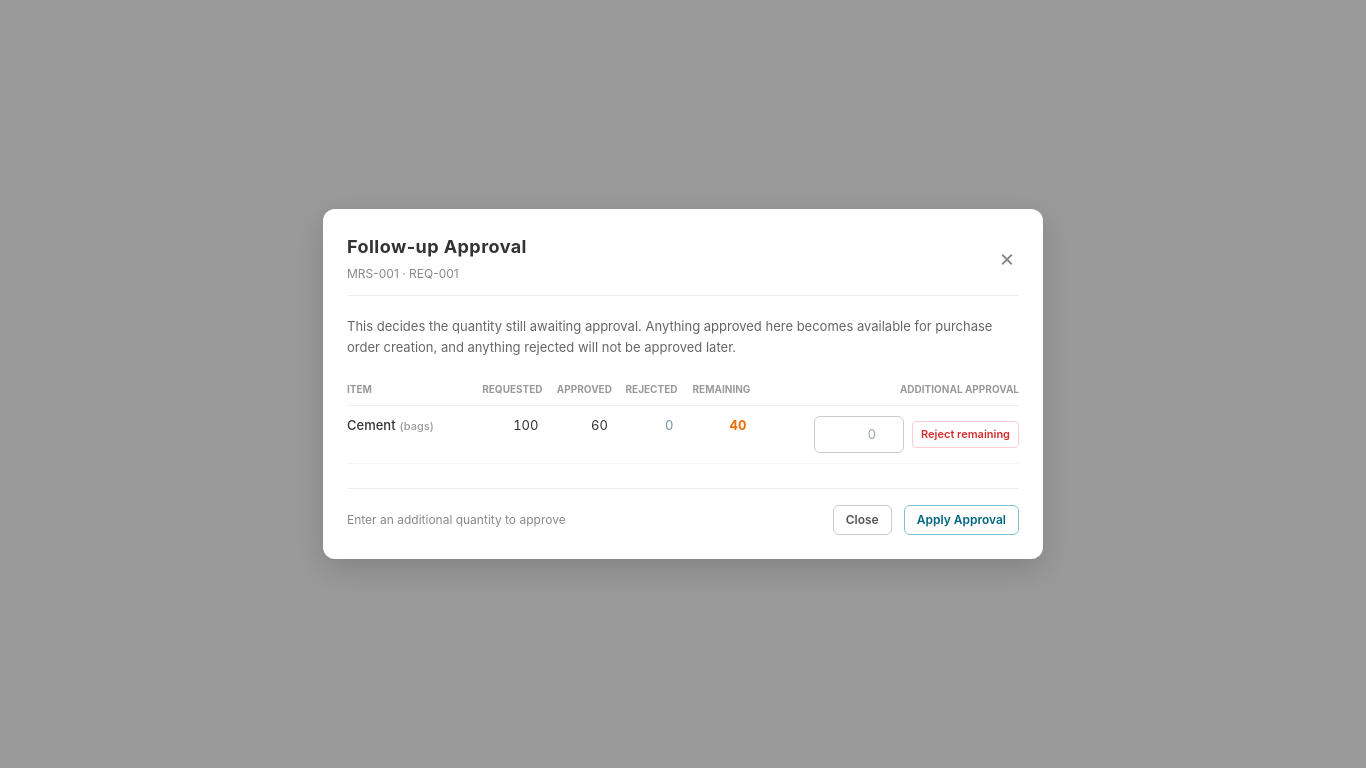
Test: additional approval is an increment › surfaces a server refusal instead of appearing to succeed
The image size is (1366, 768).
Expected: the text "Cement(bags)" is shown, x1=347 y1=405 x2=466 y2=464
Type "20" into the number field with placeholder "0".
click(859, 435); type("20")  # box x1=814 y1=416 x2=904 y2=453
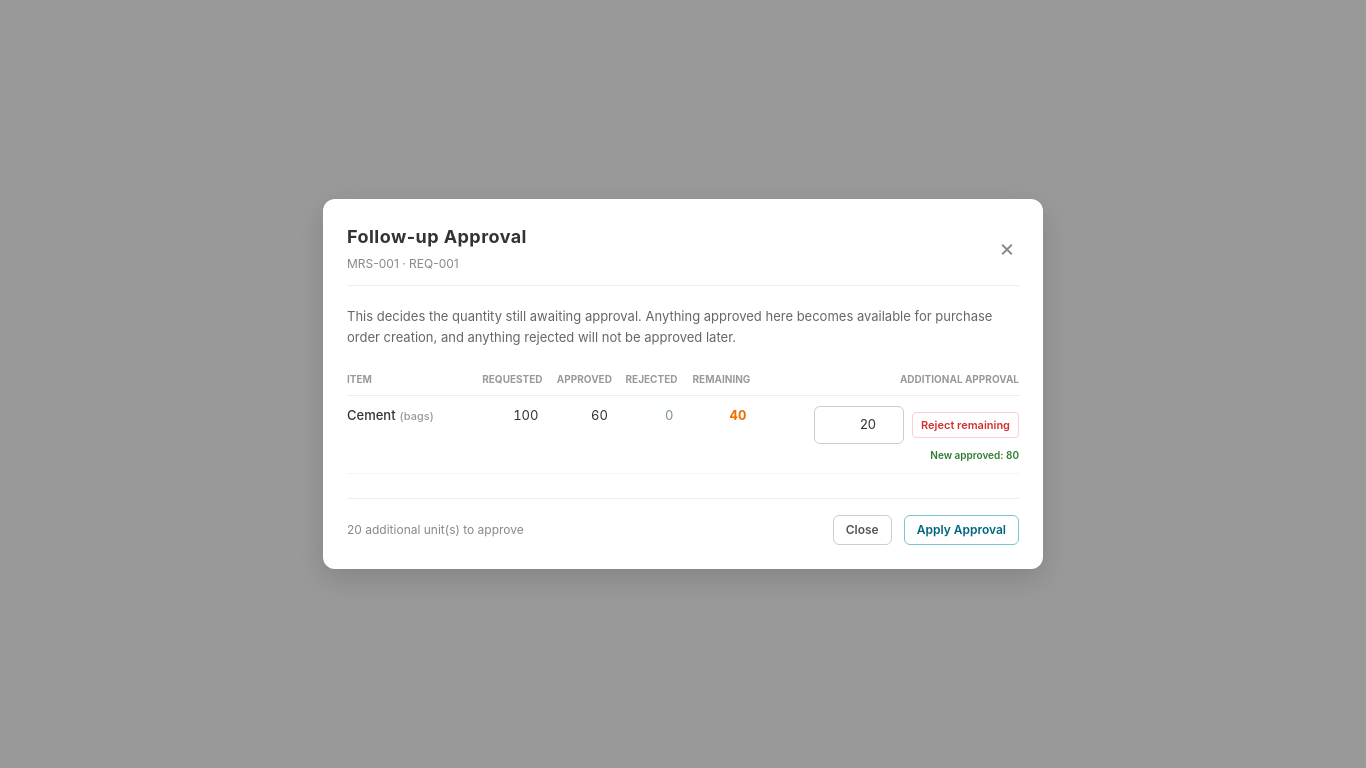
Click the button "Apply Approval".
click(961, 530)  # box x1=904 y1=515 x2=1019 y2=545
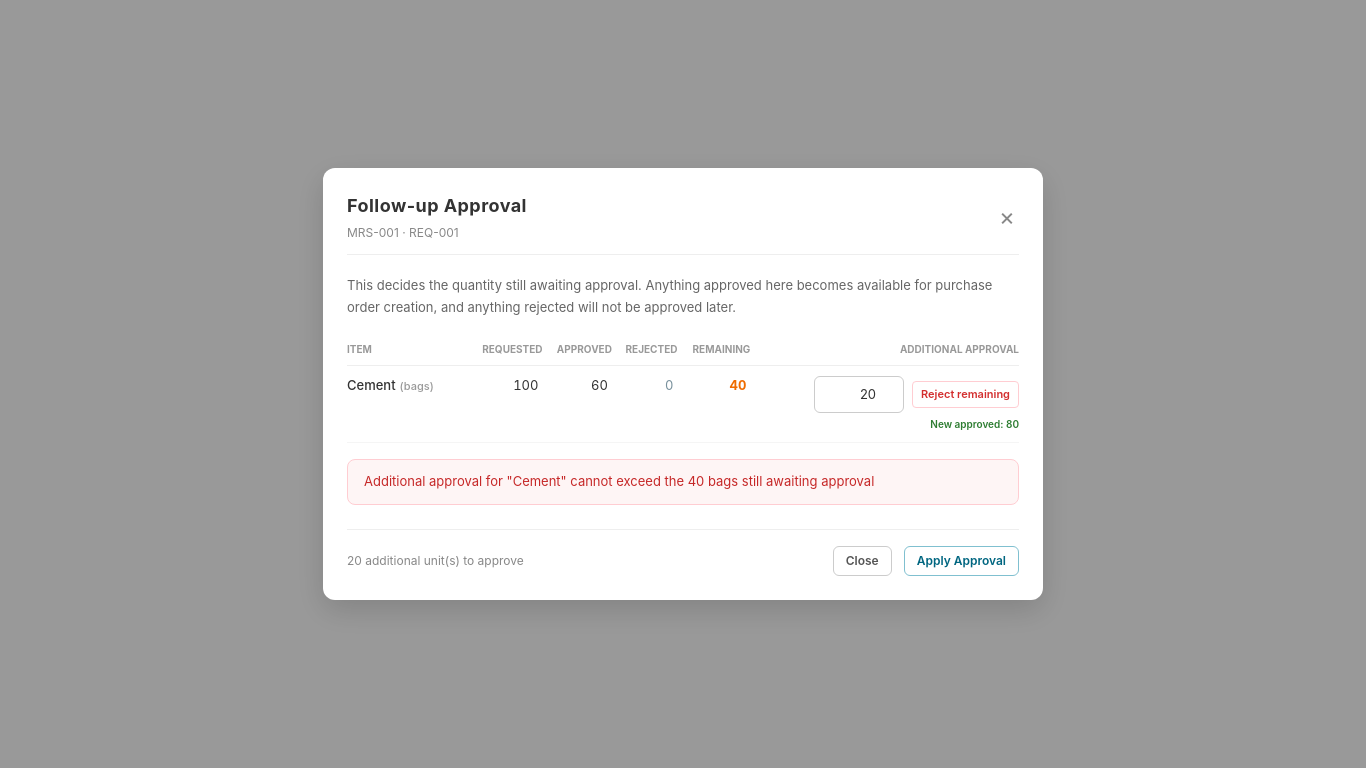
Expected: the text "cannot exceed the 40 bags still awaiting approval" is shown, x1=364 y1=473 x2=874 y2=489
